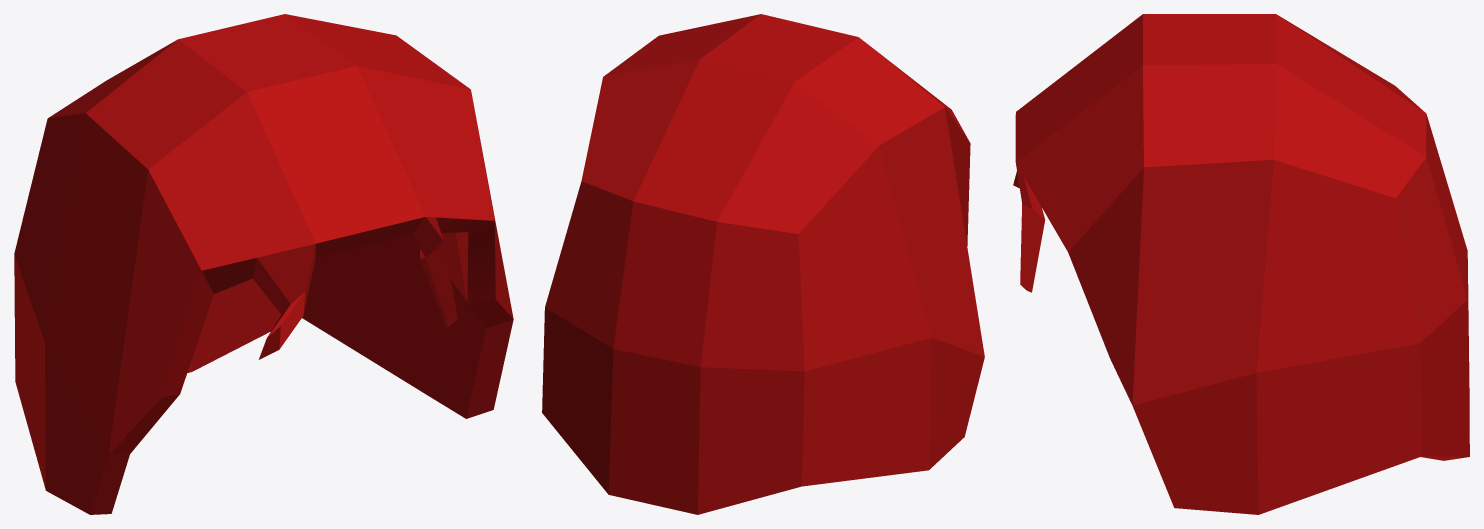
File: Hairstyle_femen_1.FBX
3 views of the same model, side by side, from view 1: azimuth 30°, elevation 25°; view 2: azimuth 150°, elevation 25°; view 3: azimuth 270°, elevation 25° (orthographic). The views are drawn at different scales.
Parts seen in each view (by area): view 1: Hairstyle_femen_1; view 2: Hairstyle_femen_1; view 3: Hairstyle_femen_1.
Boxes of the visible parts, <box> form: Hairstyle_femen_1: <box>14,14,513,514</box>; Hairstyle_femen_1: <box>542,14,984,514</box>; Hairstyle_femen_1: <box>1013,14,1469,514</box>.
Size of the model in its own units: 6.98 by 7.16 by 6.91.
